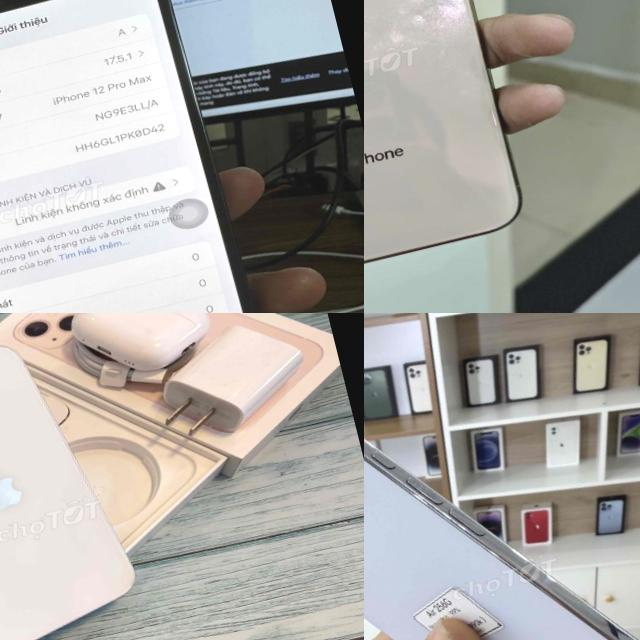gen_12_13: (0, 0, 319, 313), (0, 322, 151, 640)
gen_17: (364, 313, 640, 640)
gen_x_xs: (364, 0, 552, 313)
